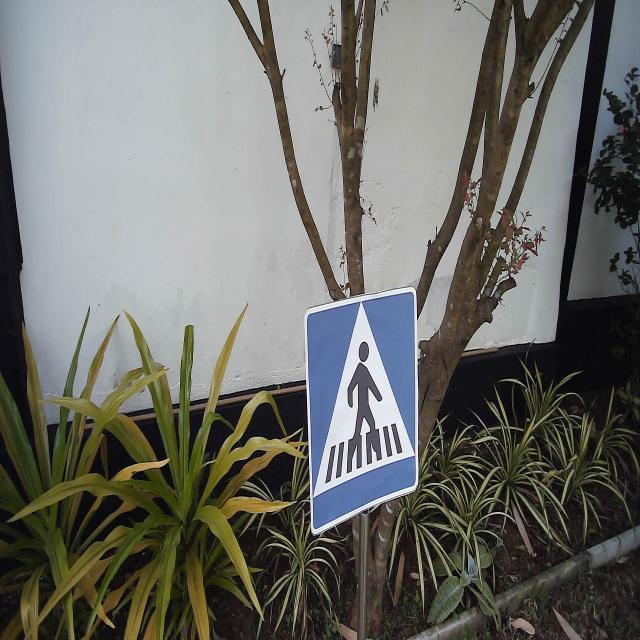crosswalk_sign: (303, 284, 420, 538)
